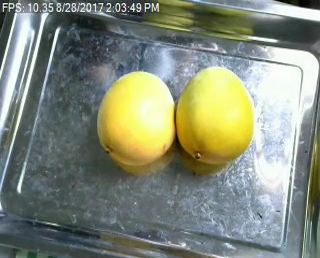Mango: (175, 65, 253, 165), (93, 70, 176, 162)
